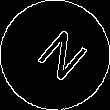N_SW: (23, 23, 87, 87)
